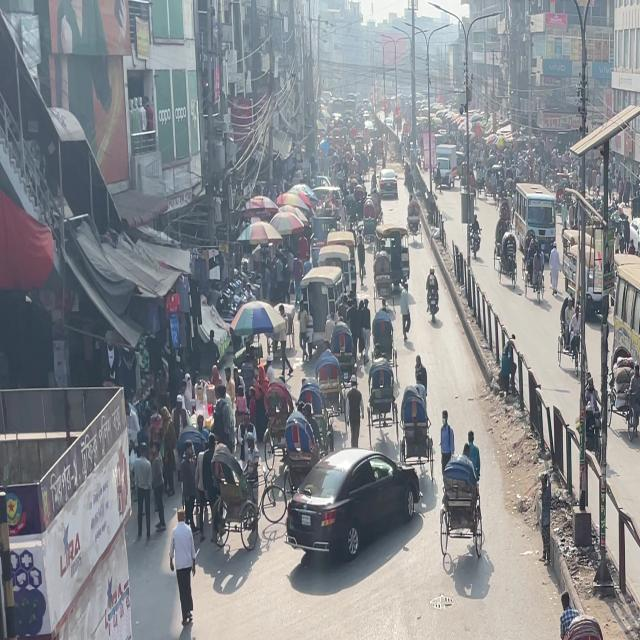car: (282, 446, 424, 564), (304, 254, 357, 295), (632, 225, 640, 263)
motorbike: (417, 257, 458, 333)
